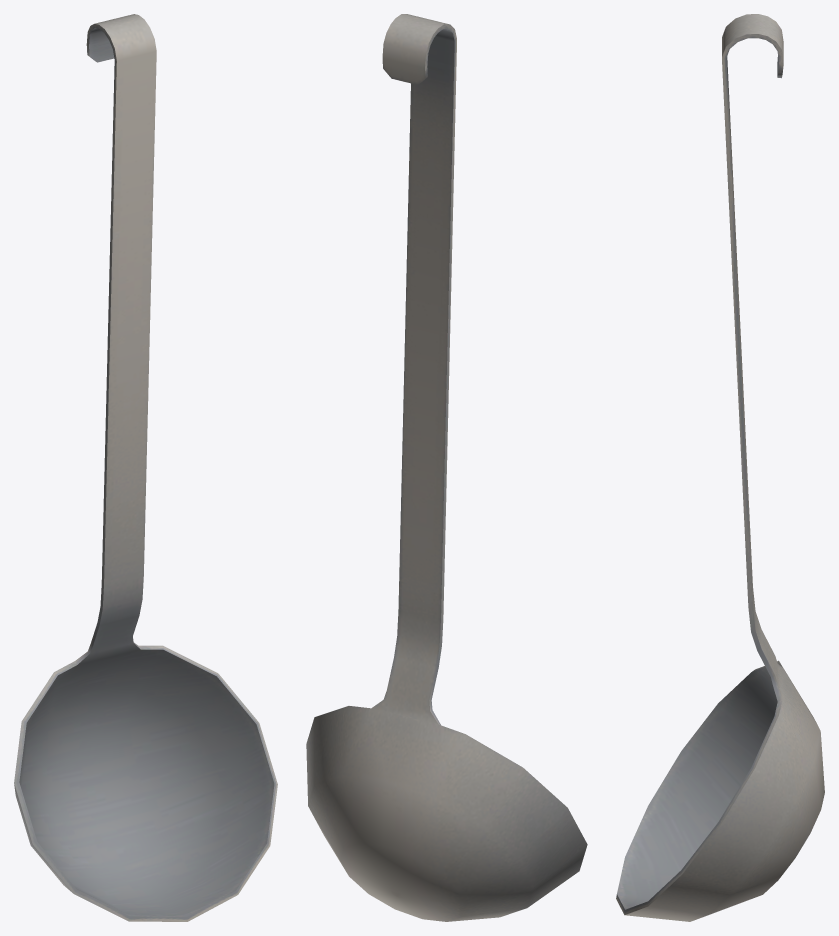
File: SM_Utensil_03.glb
The picture shows the model from 3 angles, left to right: view 1: azimuth 30°, elevation 25°; view 2: azimuth 150°, elevation 25°; view 3: azimuth 270°, elevation 25°; orthographic projection. The views are drawn at different scales.
Parts seen in each view (by area): view 1: SM_Utensil_03; view 2: SM_Utensil_03; view 3: SM_Utensil_03.
Boxes of the visible parts, x1,y1,x2,y2 form: SM_Utensil_03: (14,14,277,921); SM_Utensil_03: (306,14,587,921); SM_Utensil_03: (616,14,824,921).
Size of the model in its own units: 0.1133 by 0.3798 by 0.0813.
1 material, 1 textured.
